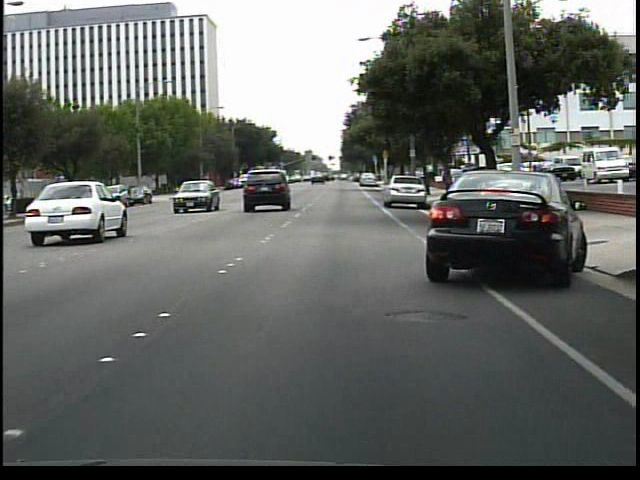person: (509, 163, 529, 211), (523, 160, 543, 195)
